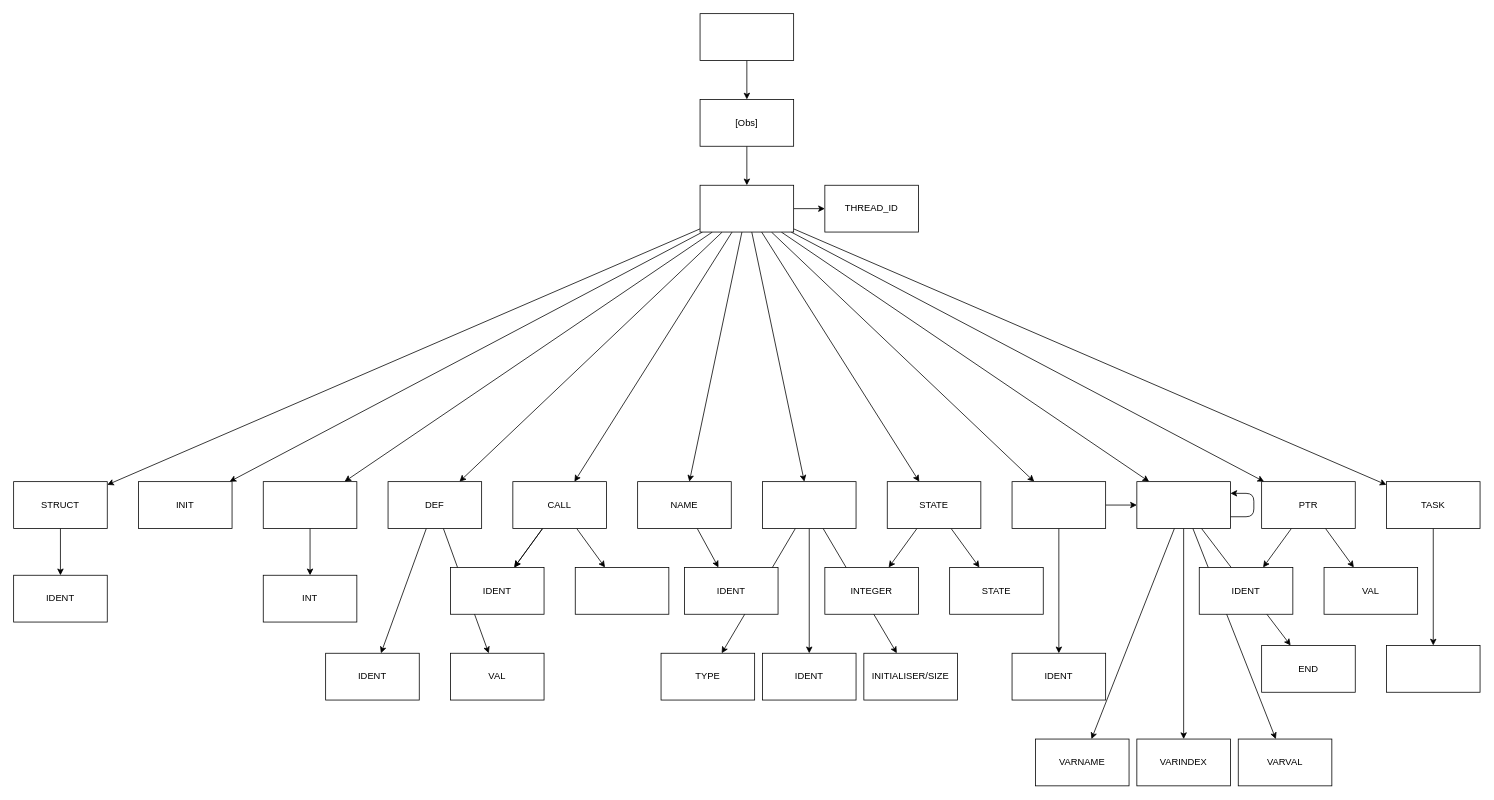
This 1494x800 diagram has some shape labels left out. Here are the shapes that lost their labels. From the top down, the box of each, then its label:
(699, 13, 794, 60): START
(699, 184, 794, 232): Obs
(262, 481, 357, 528): SIGNAL
(762, 481, 856, 528): DECL
(1011, 481, 1106, 528): SEQ
(1136, 481, 1230, 528): SCALAR
(574, 567, 669, 614): ARGS
(1386, 645, 1480, 692): TASKNAME
